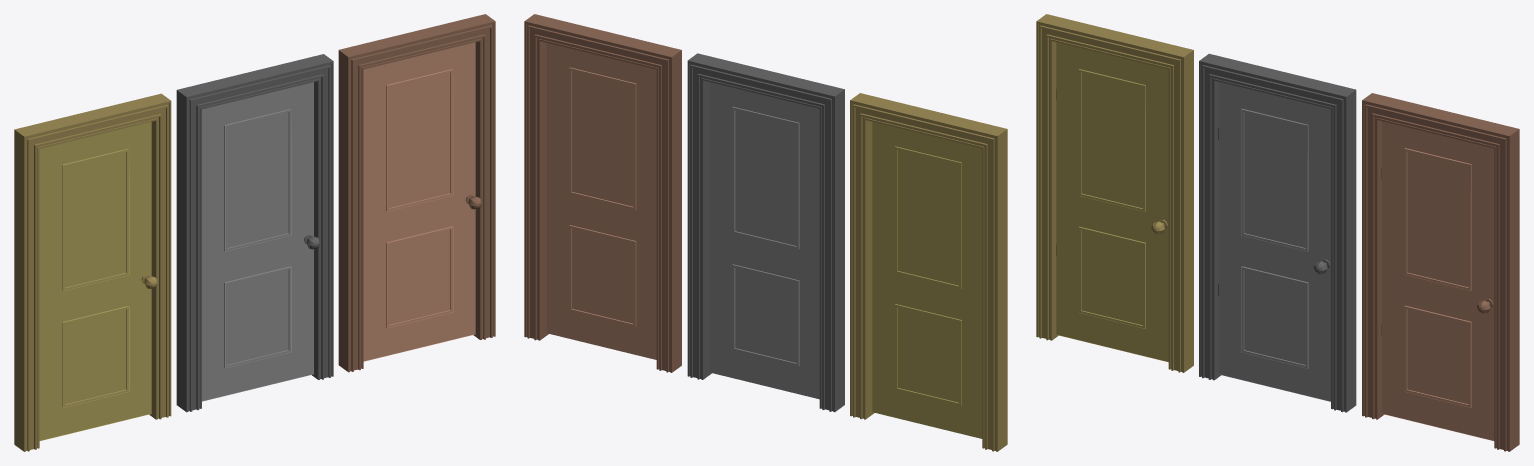
Rendered from Doors.fbx.
The picture shows the model from 3 angles, left to right: view 1: azimuth 30°, elevation 25°; view 2: azimuth 150°, elevation 25°; view 3: azimuth 330°, elevation 25°; orthographic projection.
Visible parts, largest first — view 1: Goden_Door, Copper_Door, Silver_Door; view 2: Silver_Door, Copper_Door, Goden_Door; view 3: Goden_Door, Silver_Door, Copper_Door.
Boxes of the visible parts, x1=… form: Goden_Door: x1=14, y1=93, x2=171, y2=451; Copper_Door: x1=338, y1=14, x2=495, y2=372; Silver_Door: x1=176, y1=54, x2=333, y2=412; Silver_Door: x1=687, y1=53, x2=844, y2=412; Copper_Door: x1=524, y1=14, x2=681, y2=372; Goden_Door: x1=850, y1=93, x2=1007, y2=451; Goden_Door: x1=1036, y1=14, x2=1193, y2=372; Silver_Door: x1=1199, y1=53, x2=1356, y2=412; Copper_Door: x1=1362, y1=93, x2=1519, y2=451.
Size of the model in its own units: 660 by 422 by 41.64.
